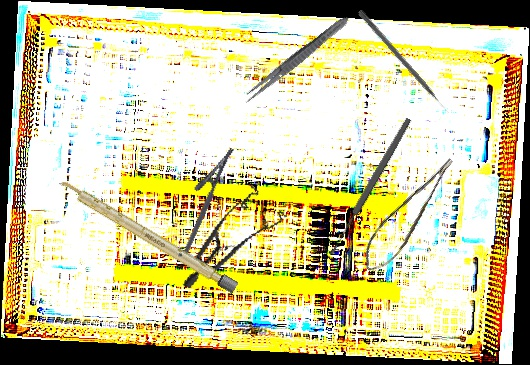Dressing Forceps: (240, 12, 353, 107)
Micro Scissor: (351, 155, 472, 278)
Needle Holder: (168, 140, 235, 256)
Pusher: (356, 9, 451, 116)
Scalpel Handle: (56, 177, 239, 294)
Speculum: (181, 174, 294, 310)
Surgical Spoon: (327, 116, 413, 257)
